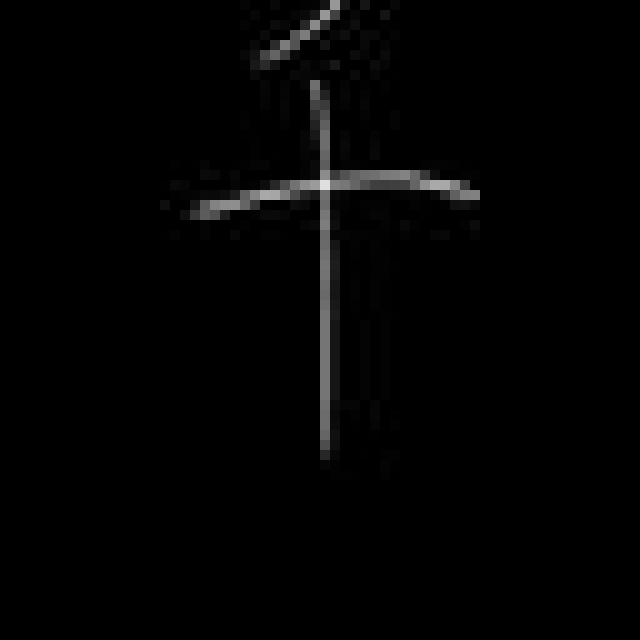1000 -a thousand-: (197, 0, 490, 468)
